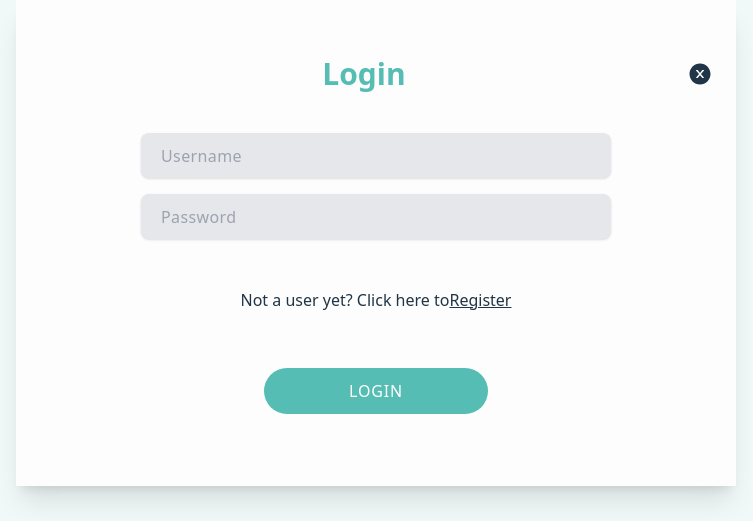
Test: LoginModalComponent › switches to registration form when "Register" is clicked
Click the "Register" link
Click the link "Register". click: (480, 300)
box: [449,289,511,311]
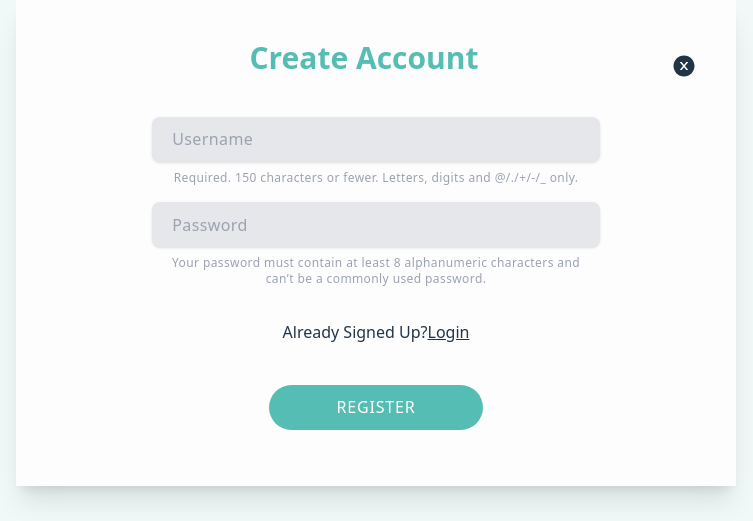
Now the heading "Create Account" is shown, box [250,40,479,76]
Now the text "Already Signed Up?" is shown, box [283,321,428,343]
Now the button "Register" is shown, box [269,385,483,430]
